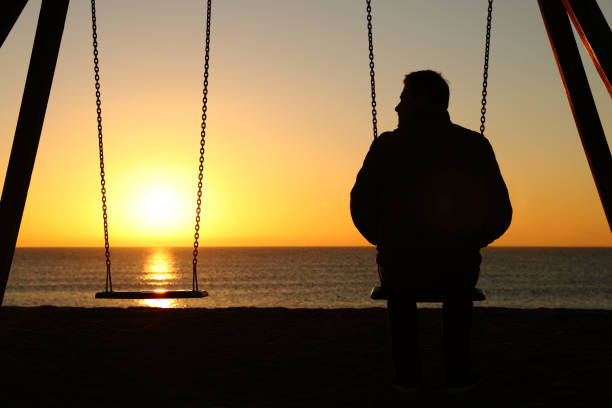without mask: (386, 74, 453, 131)
